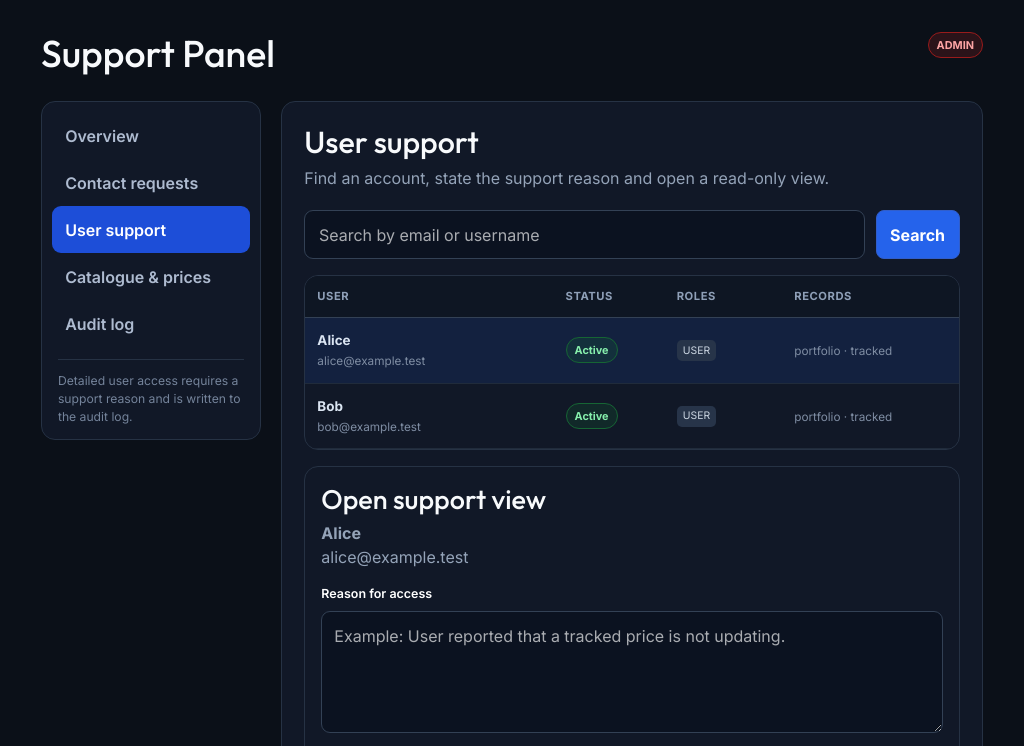
Scenario: late portfolio for a previous user cannot populate the new user's portfolio
Earlier steps of the test are not shown.
Type "Investigating a reported problem" into the text box labelled "Reason for access".
click(632, 672); type("Investigating a reported problem")  # box top-left (321, 610), bottom-right (943, 732)
(page scrolled)
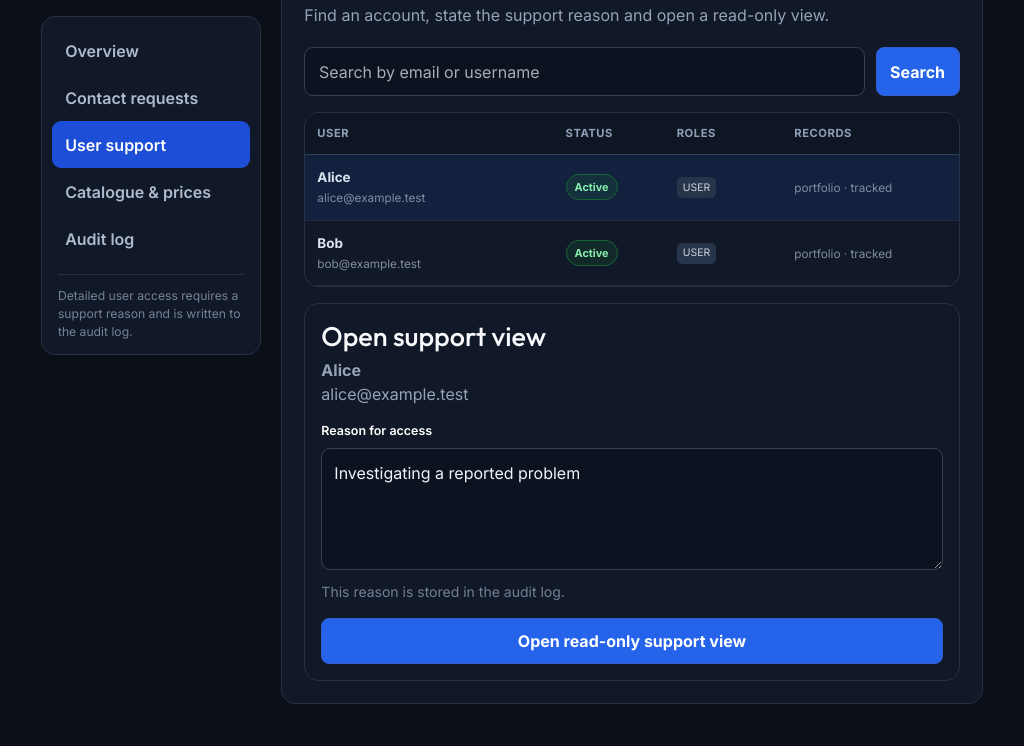
Click the button "Open read-only support view".
click(632, 641)  # box top-left (321, 618), bottom-right (943, 664)
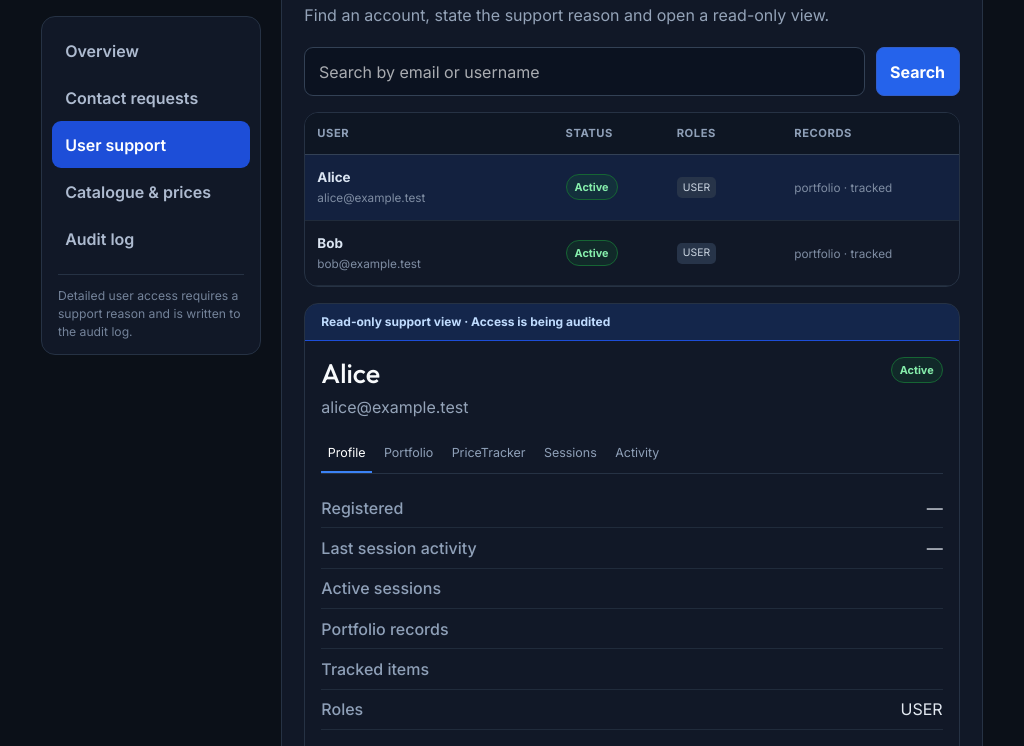
Result: the heading "Alice" is shown at top-left (321, 356), bottom-right (380, 390)
Click the button "Portfolio".
click(409, 454)  # box top-left (378, 435), bottom-right (440, 473)
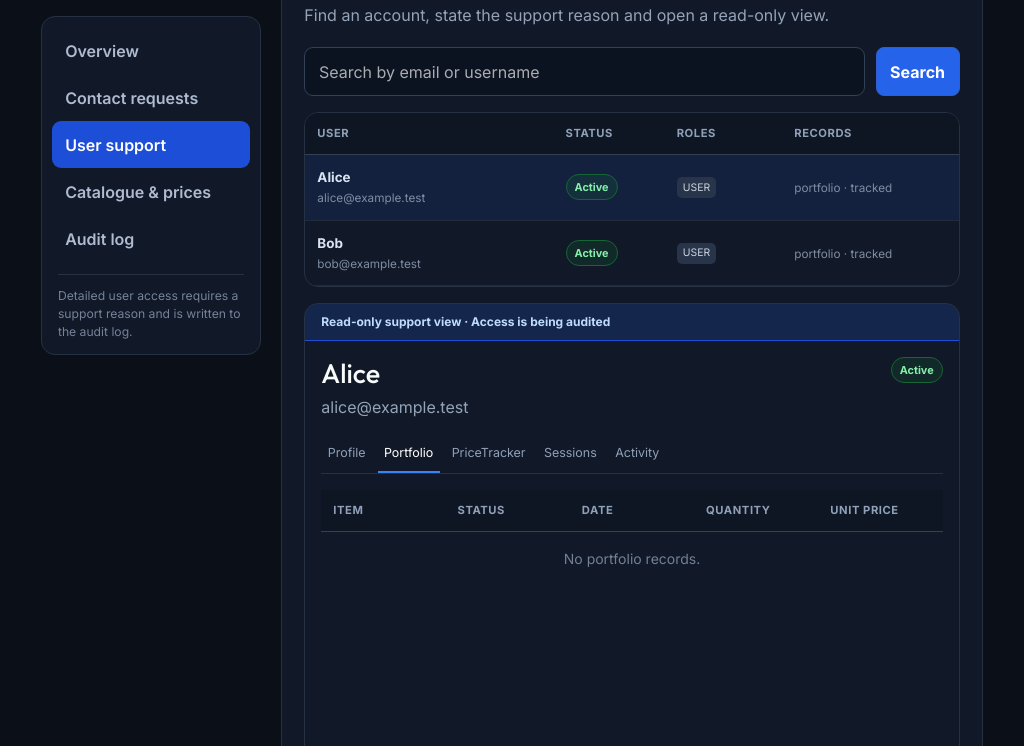
Click the row "Bob bob@example.test Active USER portfolio · tracked".
click(632, 253)  # box top-left (305, 220), bottom-right (959, 286)
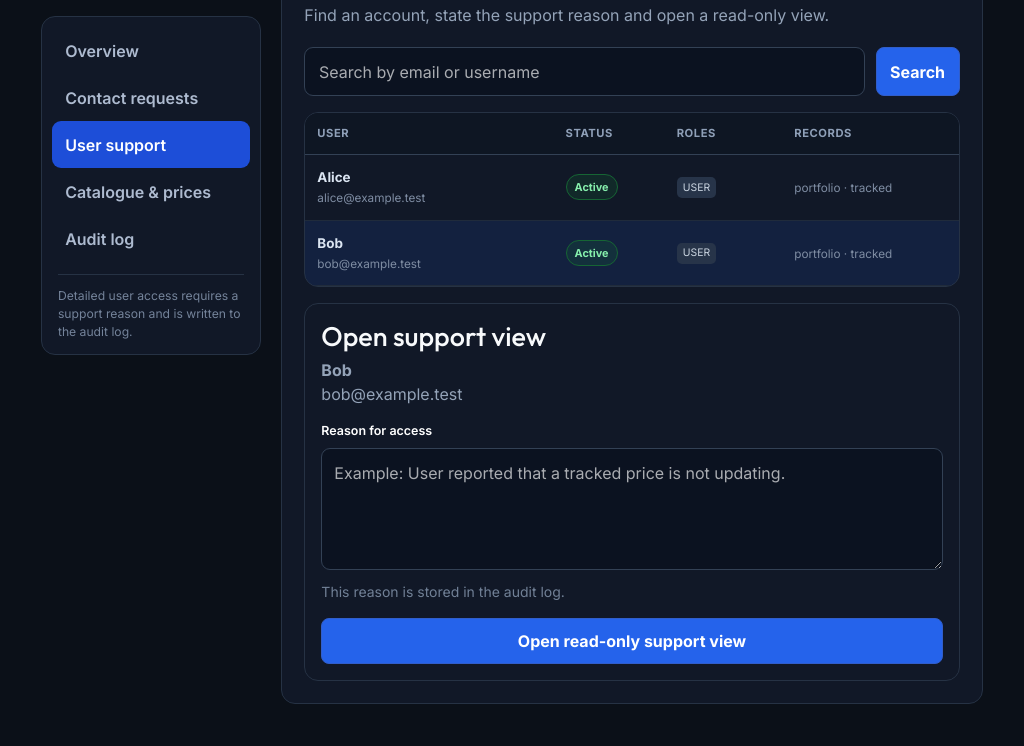
Type "Investigating a reported problem" into the text box labelled "Reason for access".
click(632, 508); type("Investigating a reported problem")  # box top-left (321, 448), bottom-right (943, 570)
Click the button "Open read-only support view".
click(632, 641)  # box top-left (321, 618), bottom-right (943, 664)
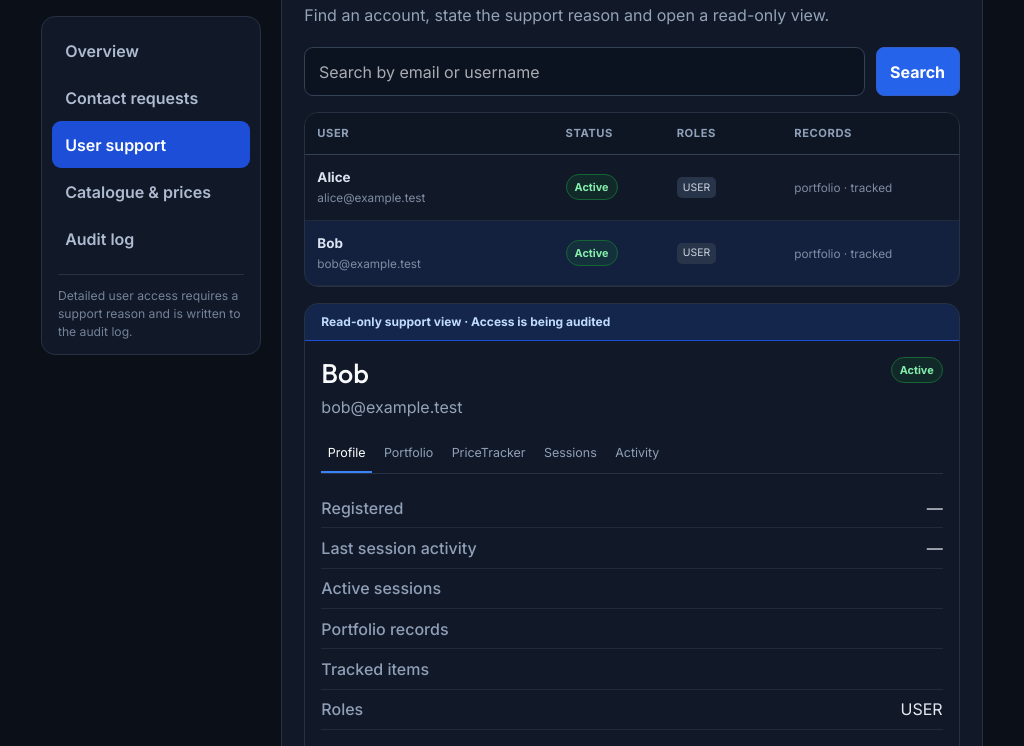
Result: the heading "Bob" is shown at top-left (321, 356), bottom-right (369, 390)
Click the button "Portfolio".
click(409, 454)  # box top-left (378, 435), bottom-right (440, 473)
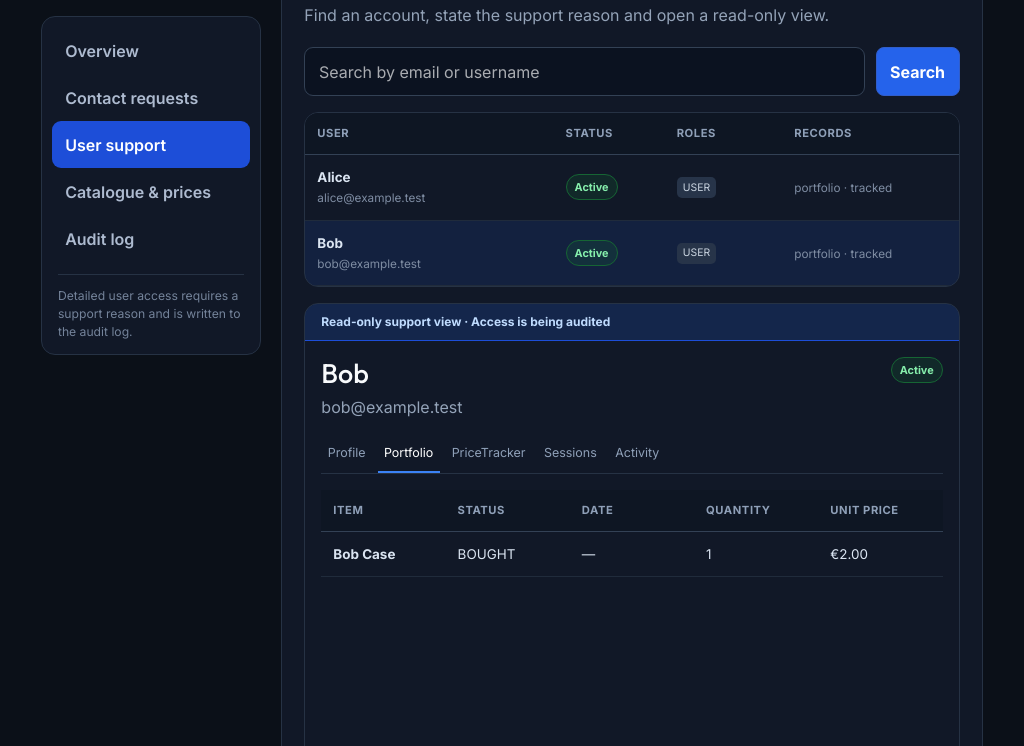
Result: the text "Bob Case" is shown at top-left (333, 546), bottom-right (395, 562)
